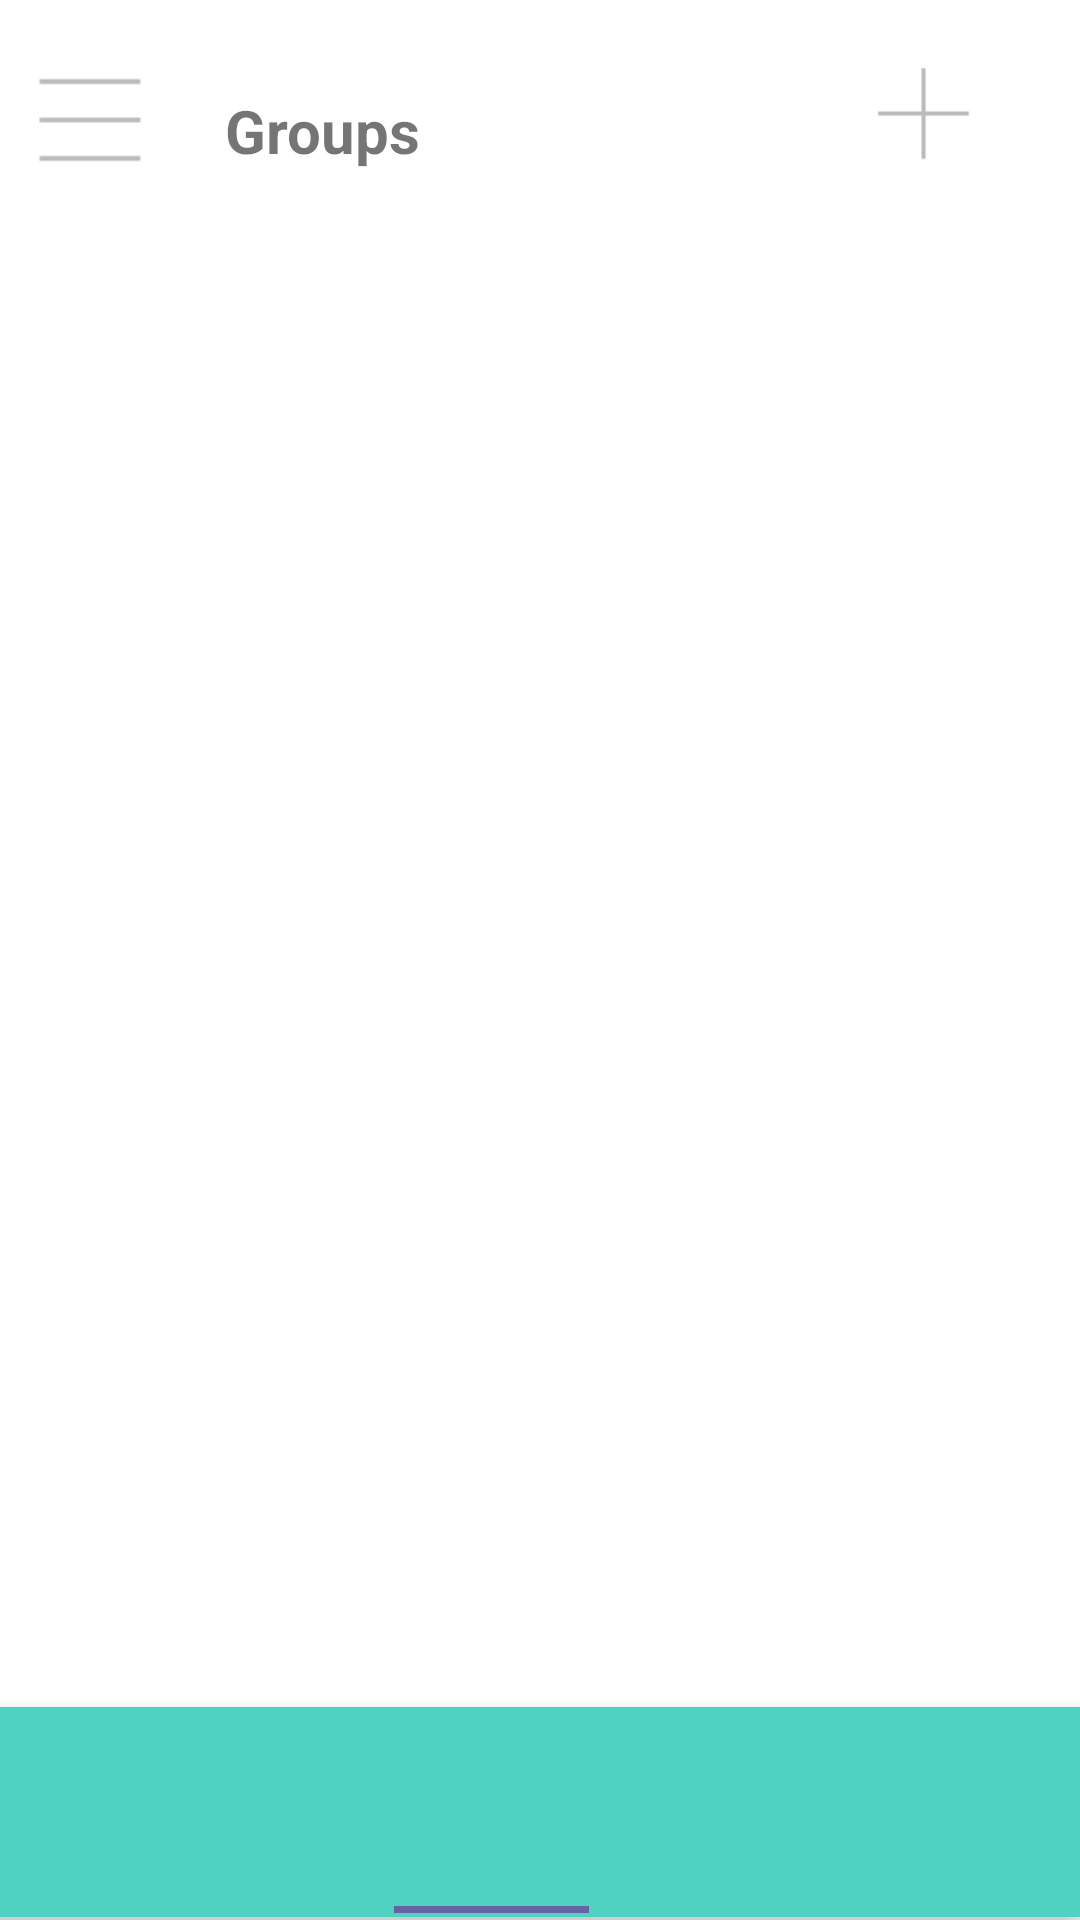

Icons on this 1080w x 1920h Android screen, each with its box as bbox(x1, y1, x2, y2):
add: bbox(878, 68, 969, 159)
open sidebar: bbox(39, 79, 141, 161)
